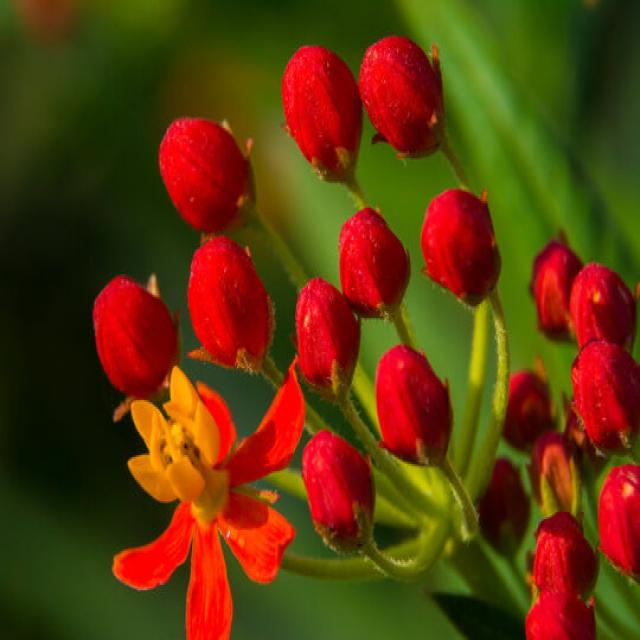Ipecac: (98, 103, 574, 542), (281, 4, 576, 575), (32, 211, 378, 640), (431, 146, 639, 640)
